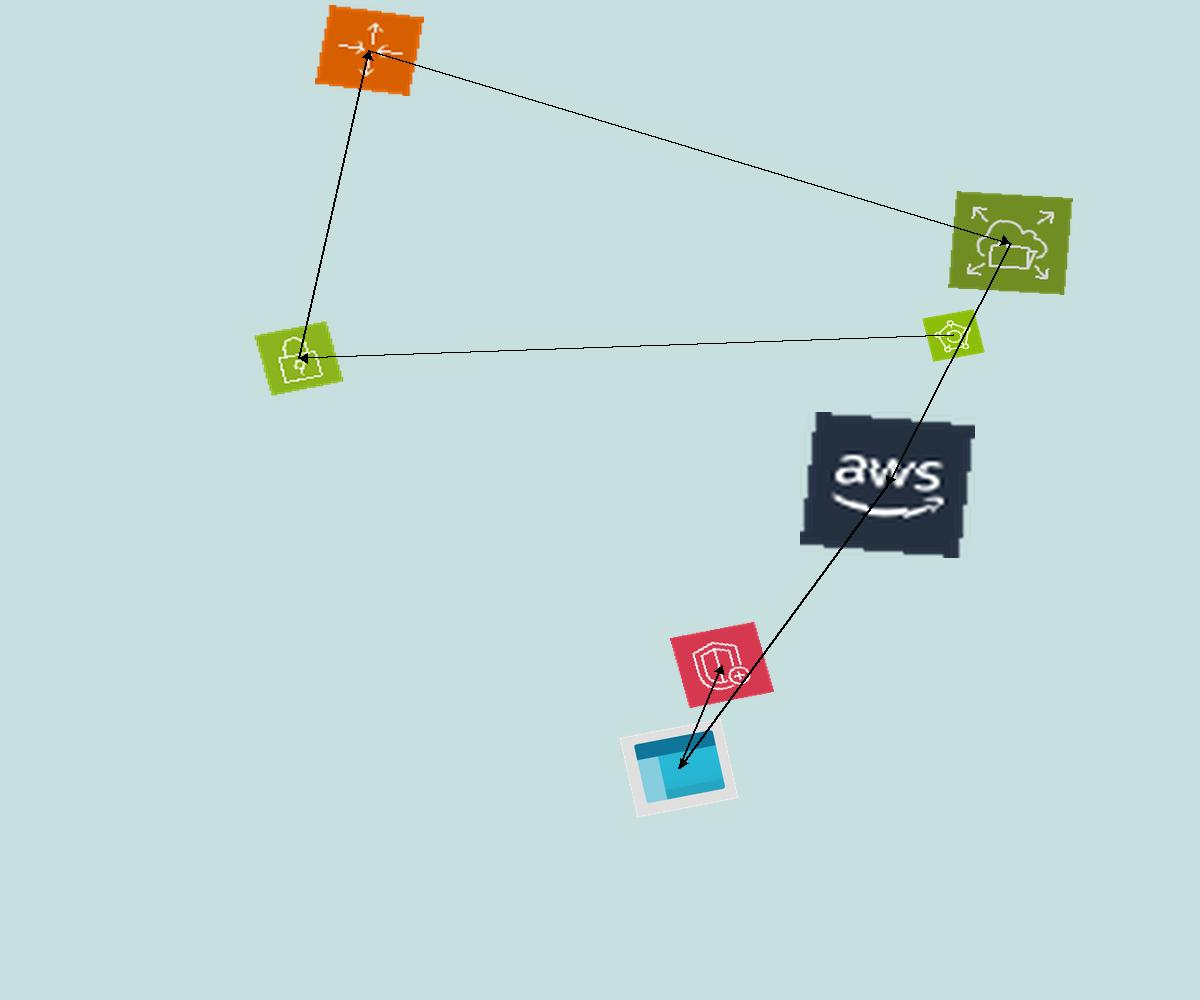AWS-Backup: (922, 309, 985, 362)
AWS-Cloud-logo: (800, 412, 975, 558)
AWS-EFS: (948, 191, 1073, 295)
AWS-Public-subnet: (253, 320, 345, 397)
AWS-Scaling-group: (315, 5, 424, 96)
AWS-Shield: (669, 621, 775, 709)
Azure_management-portal: (619, 718, 739, 818)
